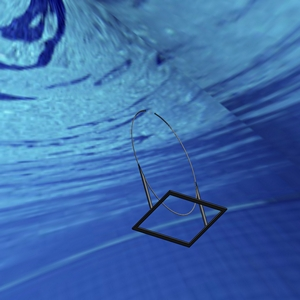circle: (129, 111, 228, 249)
